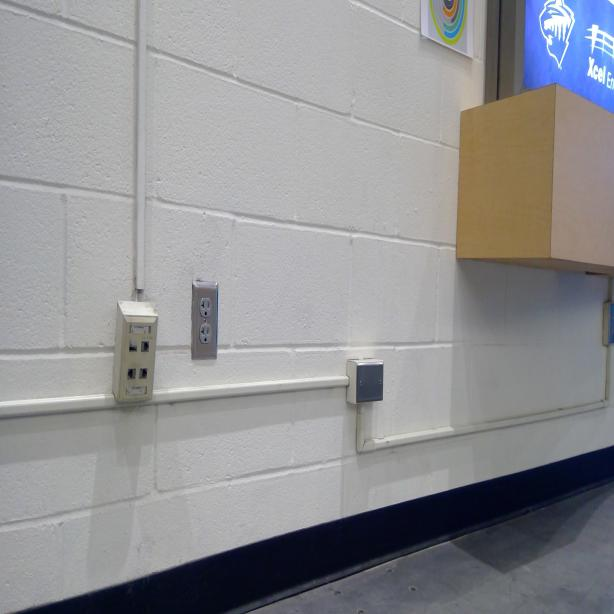typeb: (199, 298, 212, 318), (200, 324, 211, 344)
